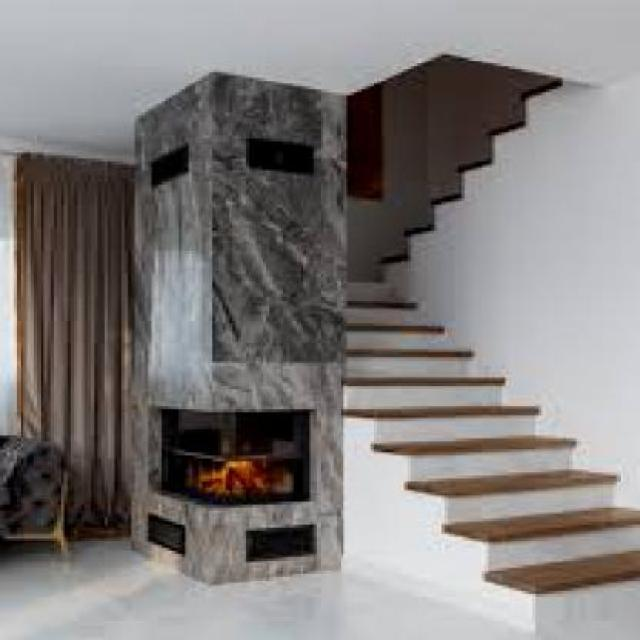stair: (298, 280, 640, 638)
